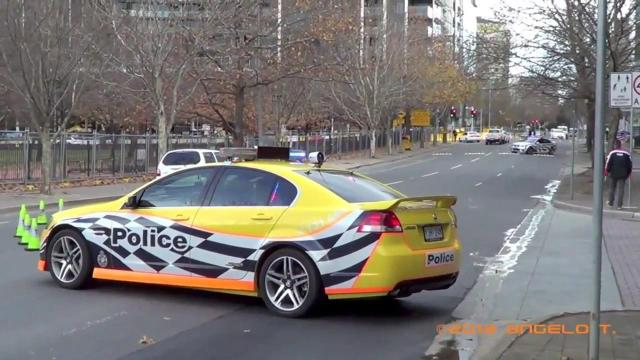police_car: (48, 152, 461, 311)
